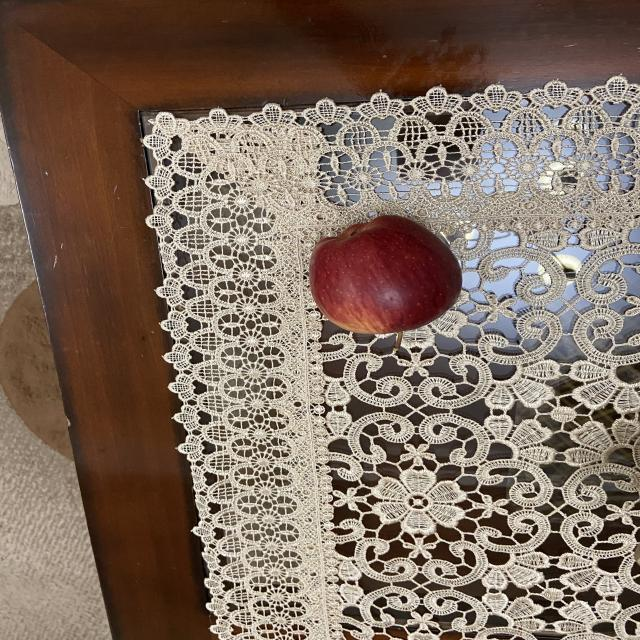apple: (300, 212, 462, 344)
